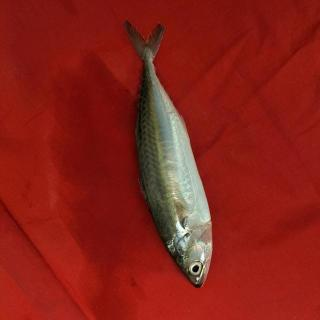Ikan: (110, 11, 236, 297)
